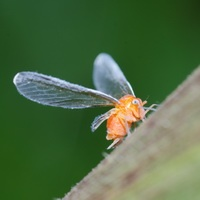insect: (13, 53, 155, 148)
